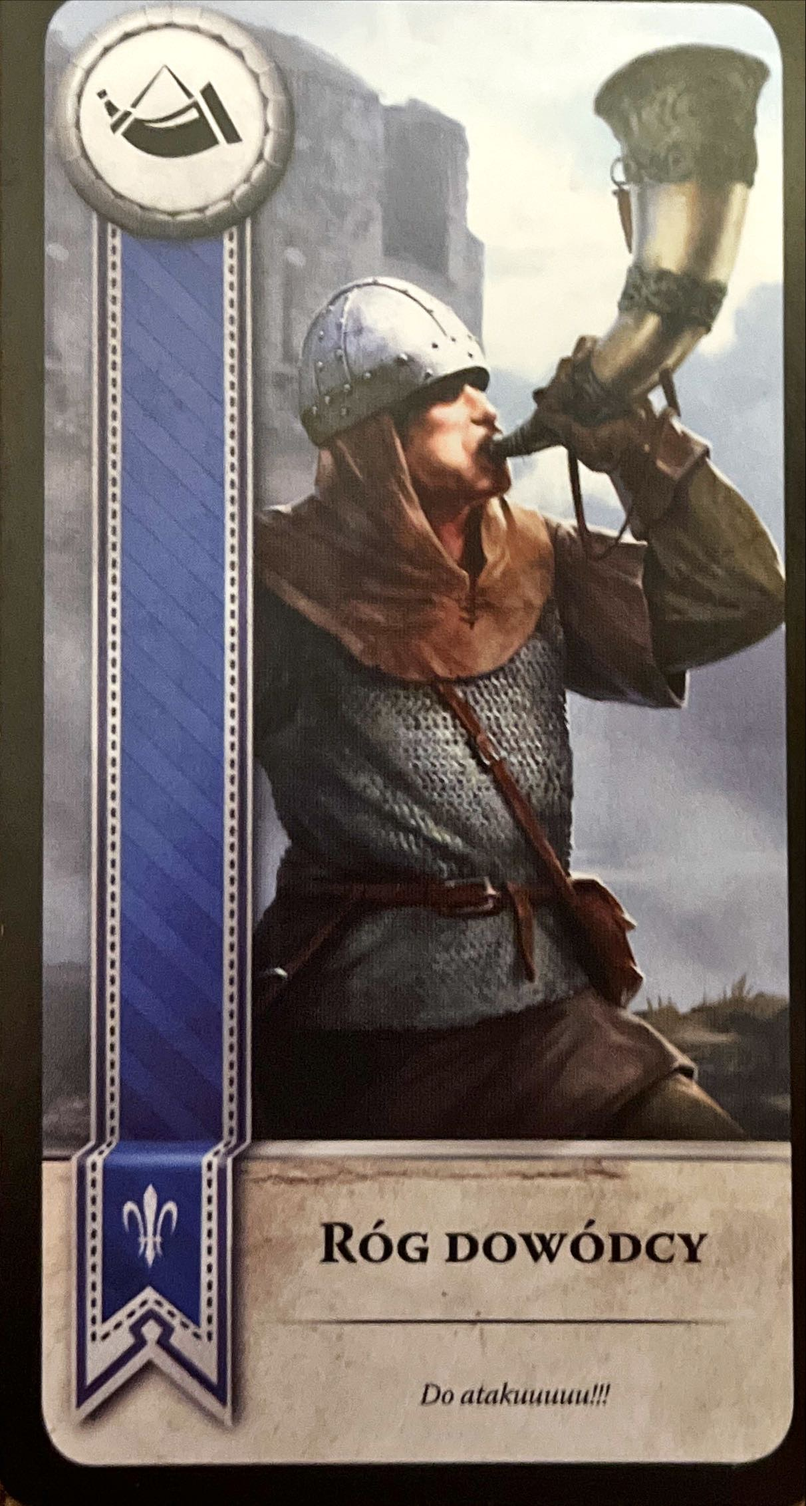rog: (55, 1, 293, 242)
